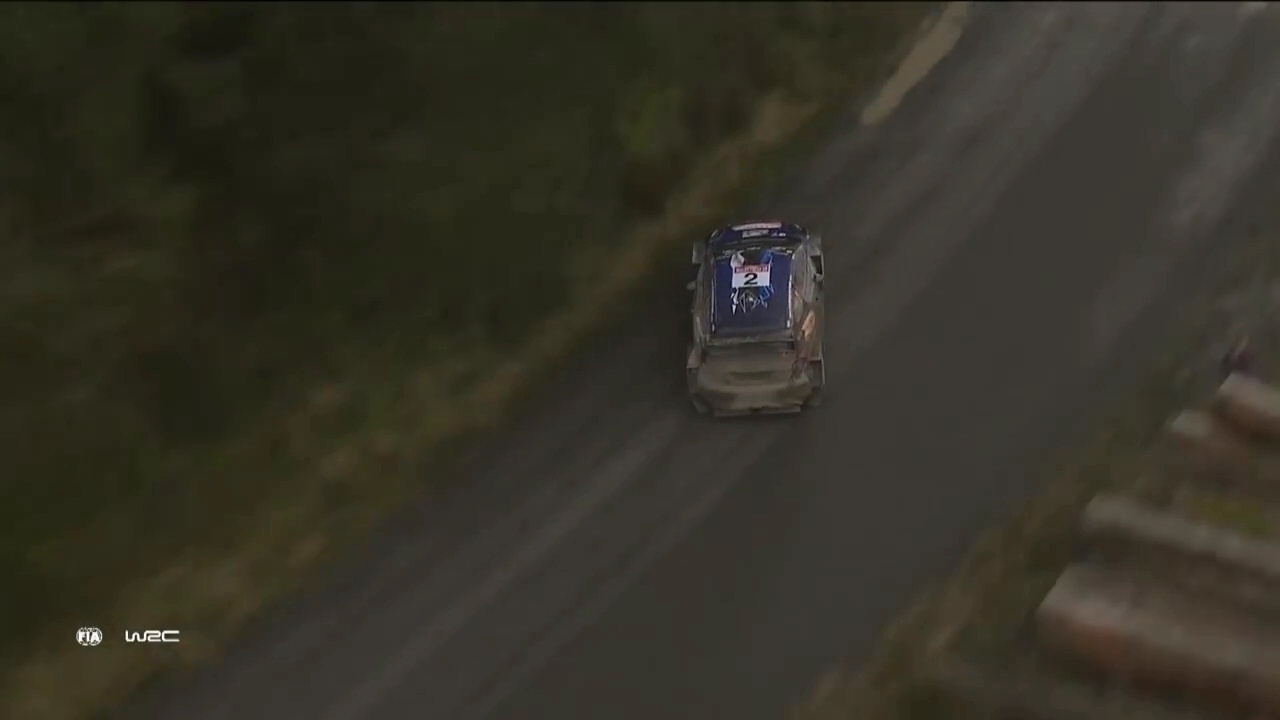araba: (692, 219, 832, 417)
